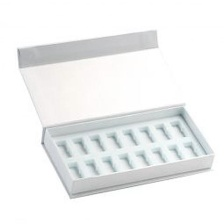book: (10, 23, 220, 201)
